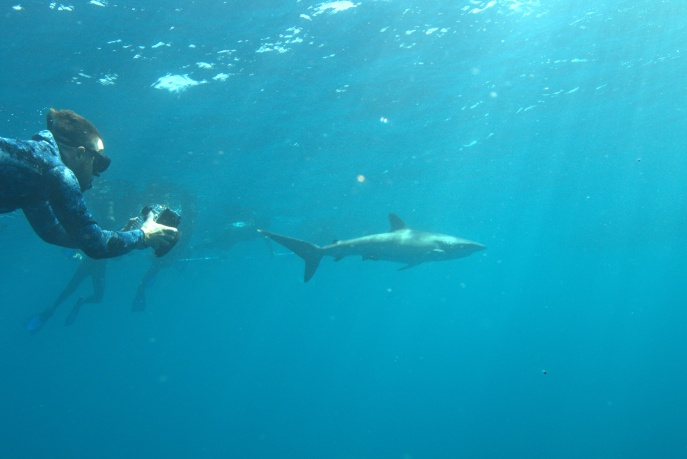Sedoso: (255, 209, 494, 289)
